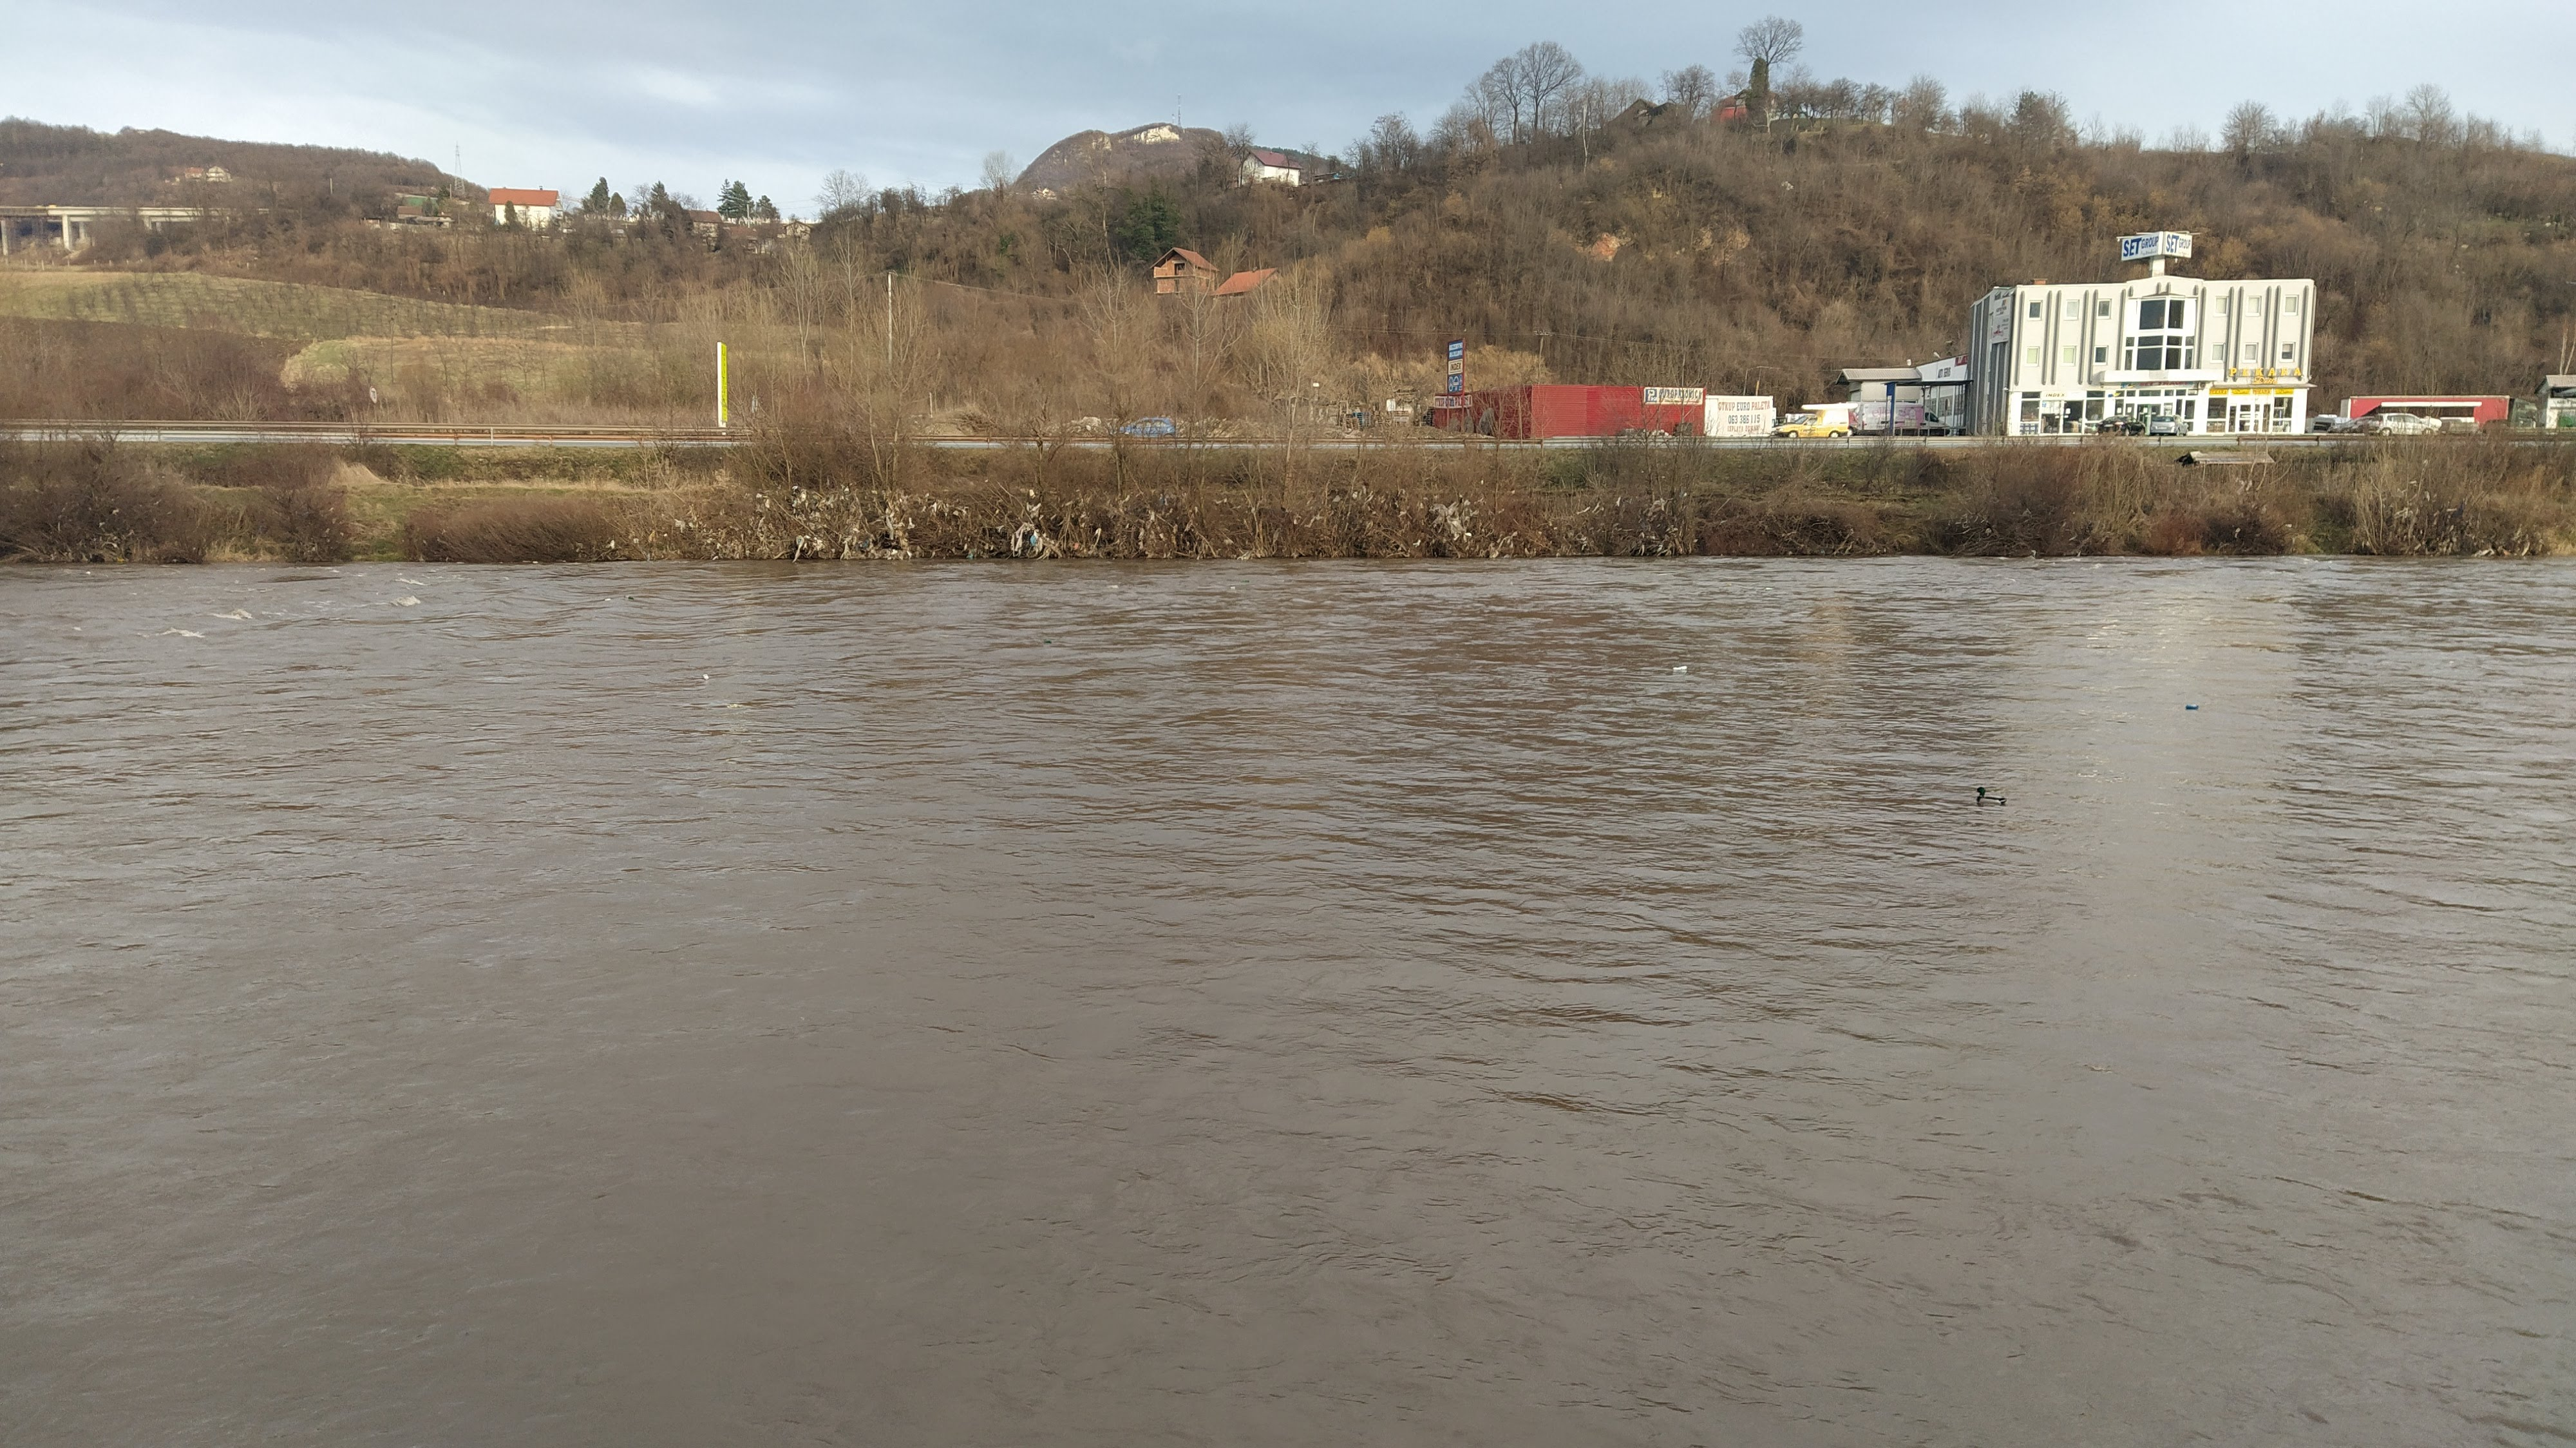Plastic Bottle: (1672, 666, 1686, 671), (623, 595, 635, 600), (2185, 705, 2197, 710), (702, 674, 709, 680), (1044, 639, 1051, 644), (1766, 586, 1773, 591), (1242, 579, 1247, 582)
